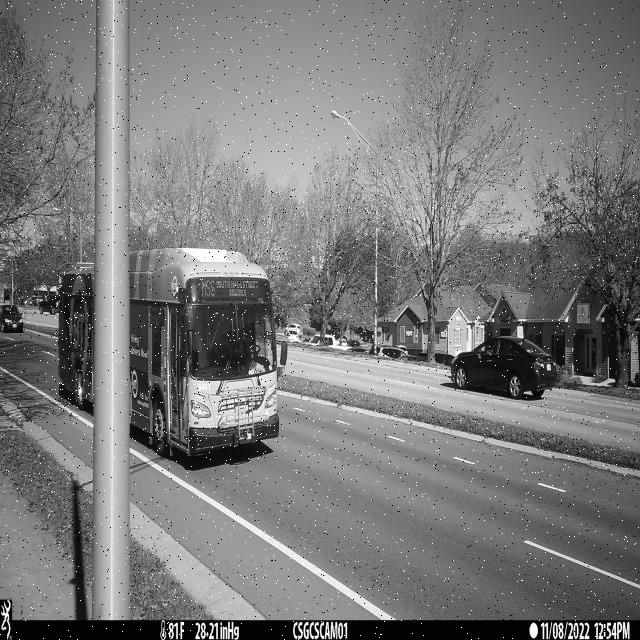Bus: (128, 248, 289, 459), (58, 267, 94, 412)
